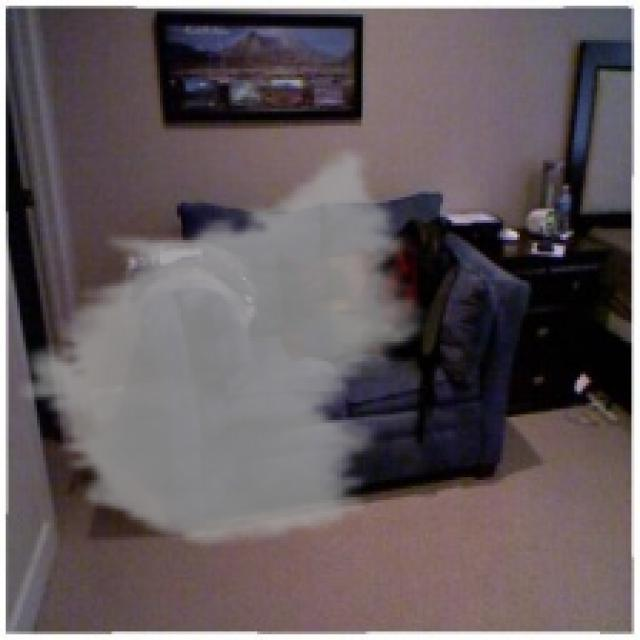smoke: (12, 146, 437, 551)
